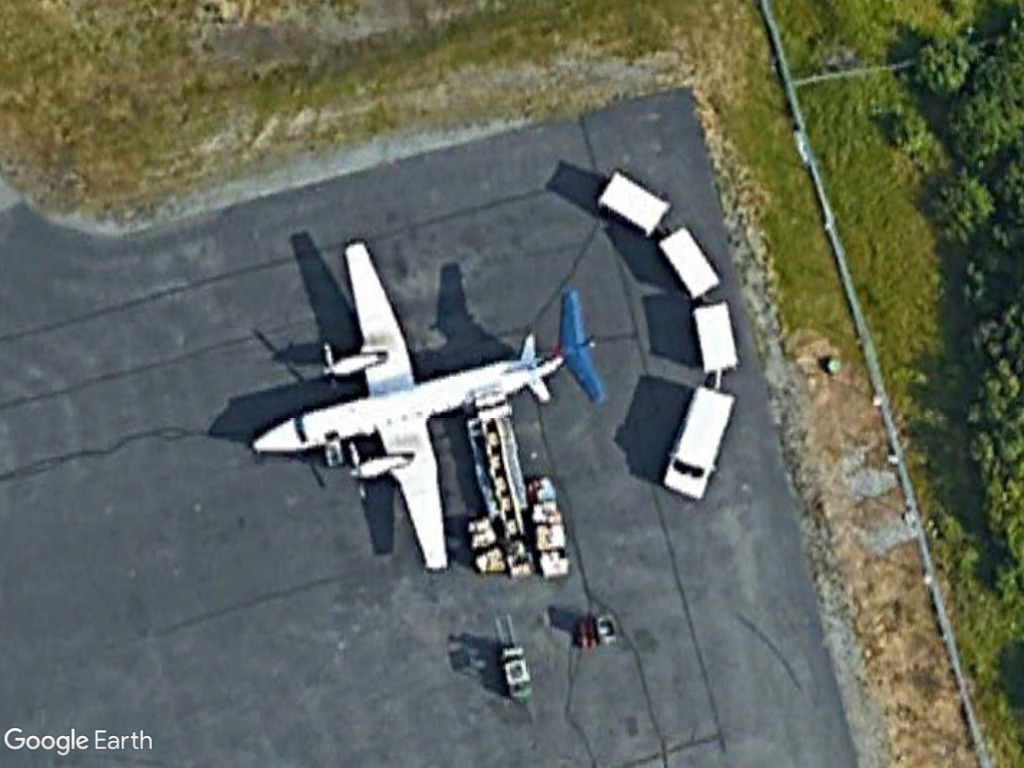propeller: (233, 230, 609, 575)
van: (653, 376, 745, 508)
